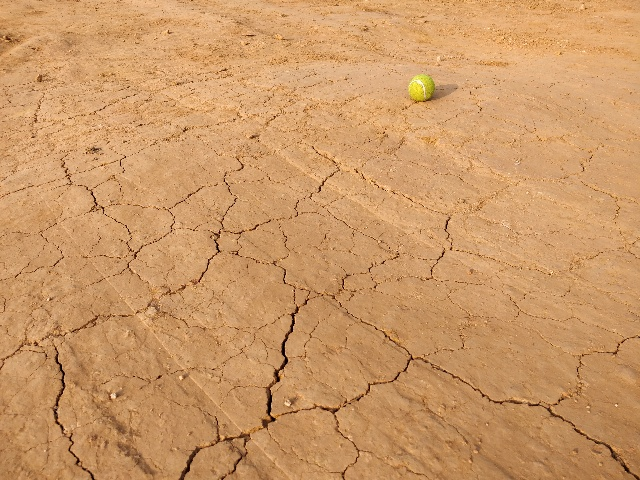ball: (406, 71, 437, 105)
